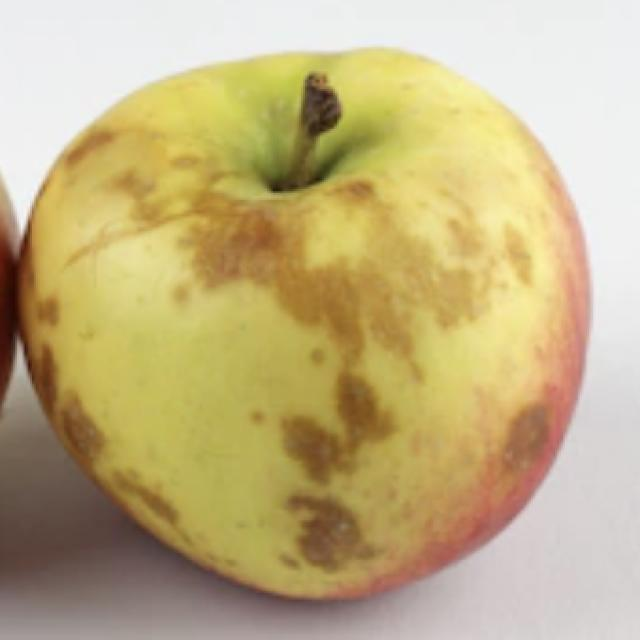Rotten: (40, 66, 583, 606)
